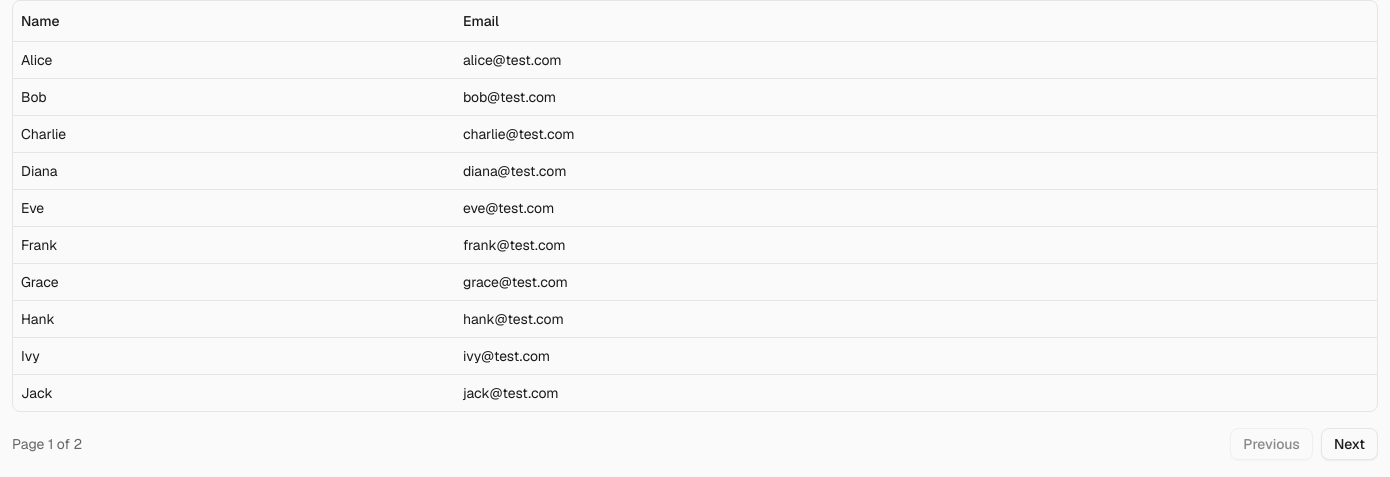
Test: DataTable › navigates to next page
The image size is (1390, 477).
Check: the text "Alice" is shown, box top-left (13, 41), bottom-right (455, 78)
Check: the text "Web Developer" is not shown
Click next
Click the button "Next".
click(1349, 444)  # box top-left (1321, 428), bottom-right (1378, 460)
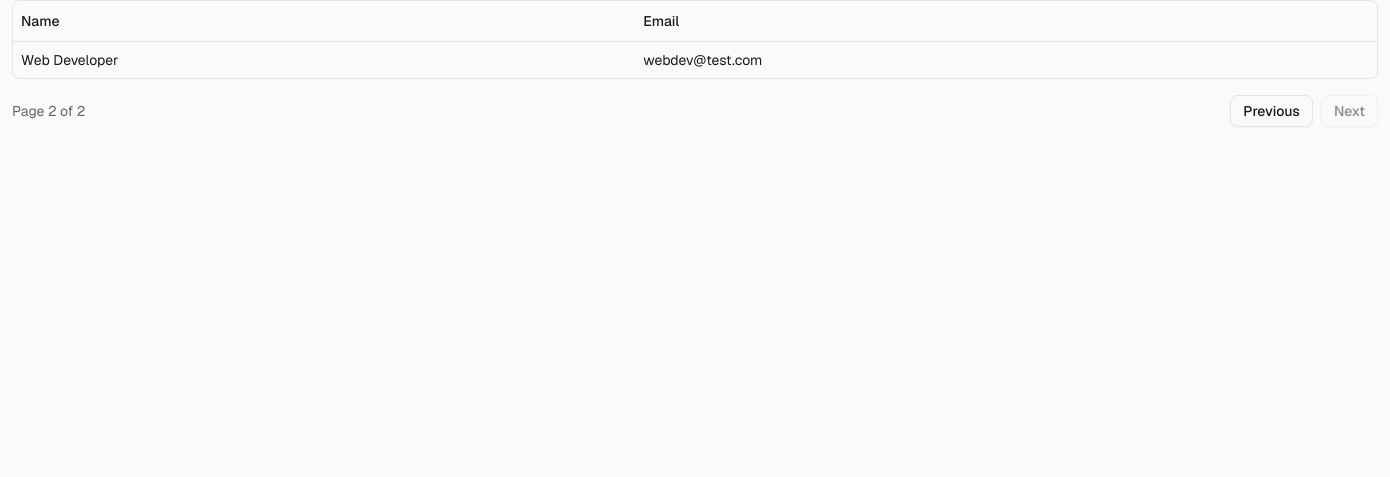
Check: the text "Web Developer" is shown, box top-left (13, 41), bottom-right (635, 78)
Check: the text "Alice" is gone
